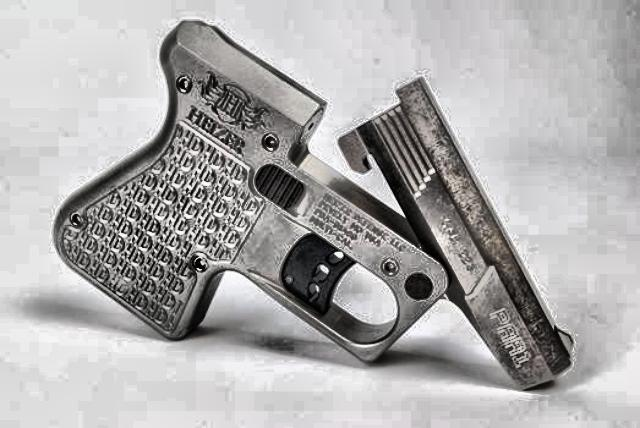pistol: (49, 17, 583, 389)
